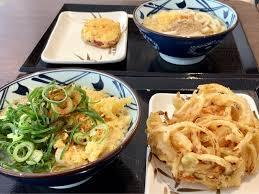bukkake: (1, 72, 129, 174)
kakiage: (149, 78, 259, 189)
satumaimo: (84, 16, 121, 48)
